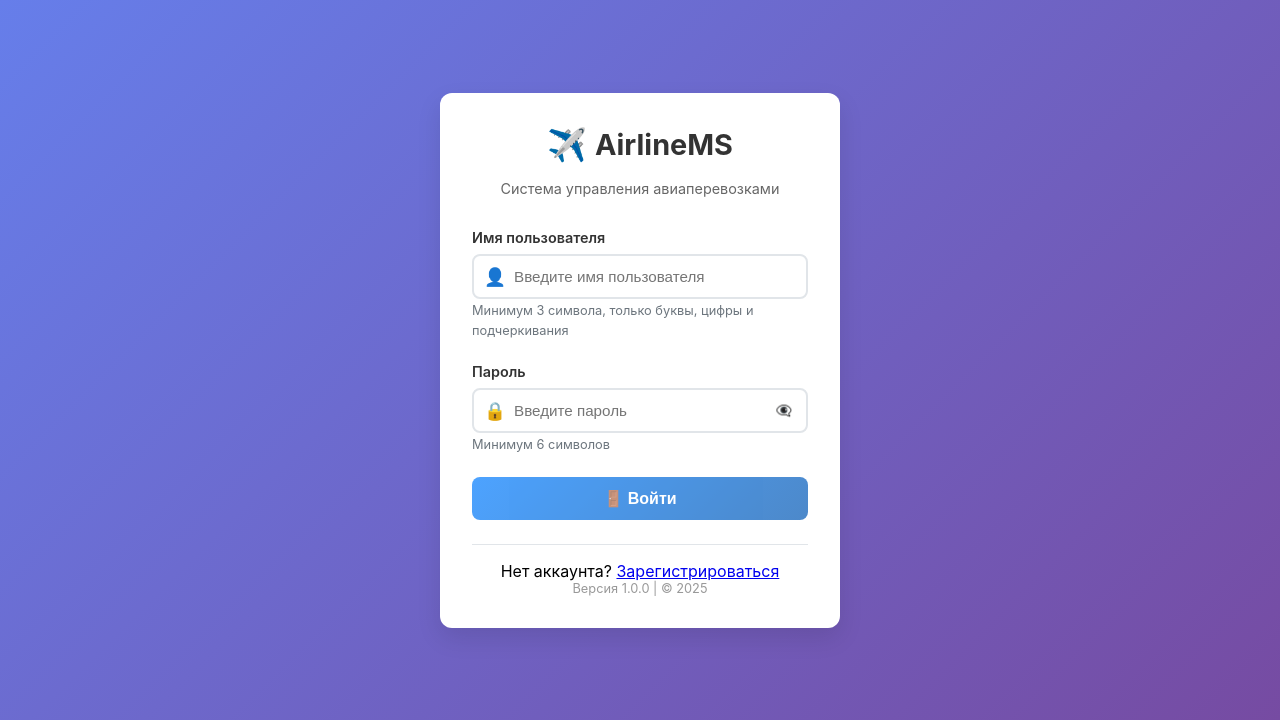
Test: Authentication › Login Component › should enable submit button when fields are filled
Step 1. Type "testuser" into the field labelled "Имя пользователя" → (640, 276), box [472, 254, 808, 298]
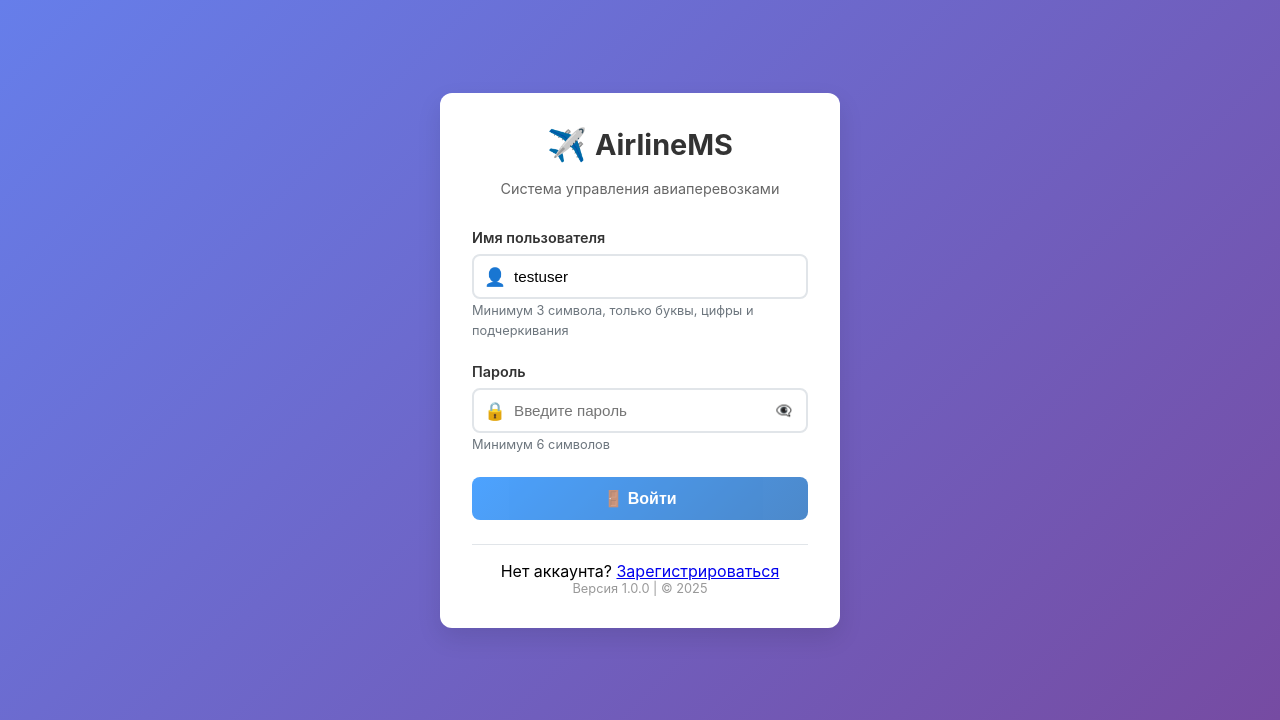
Step 2. Type "password123" into the password field with placeholder "Введите пароль" → (640, 410), box [472, 388, 808, 432]
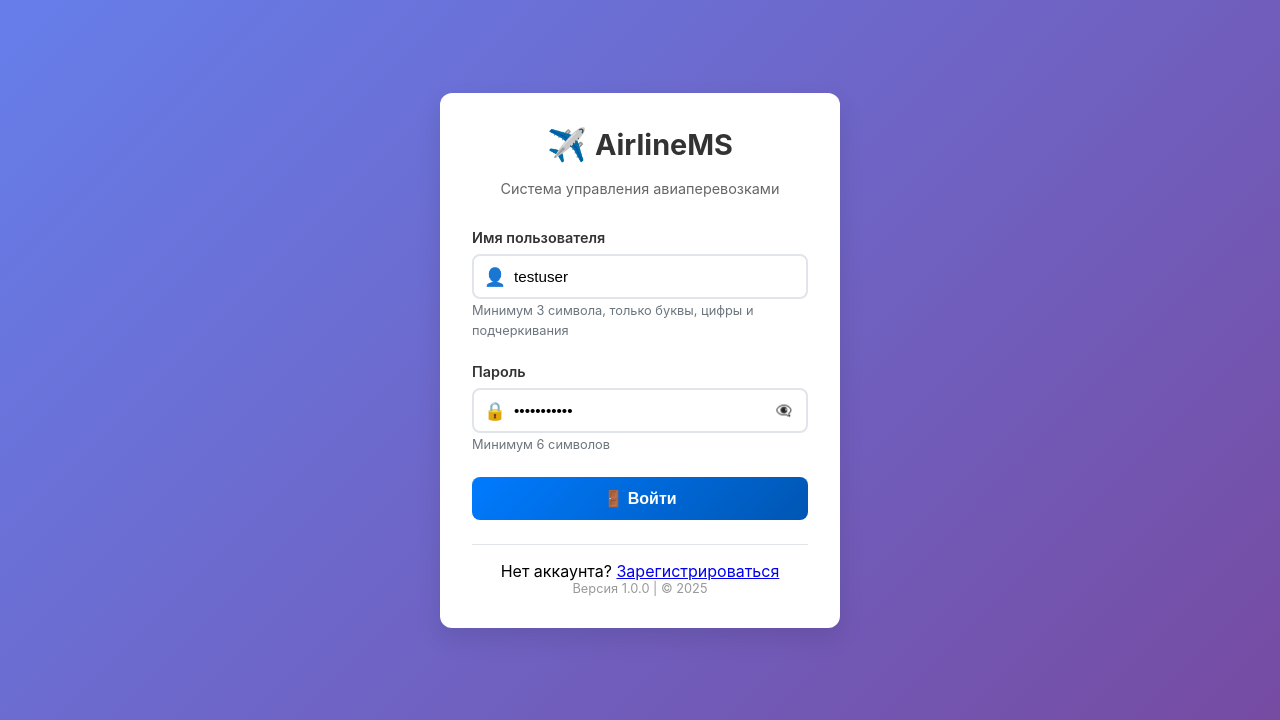
Result: the button with aria-label "войти в систему" is enabled at [472, 476, 808, 520]
